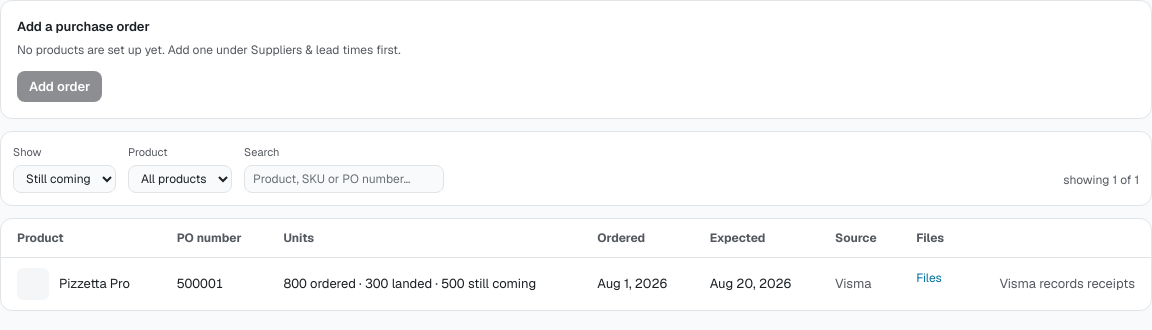
Test case: the PO number and the files from Visma › opens the files Visma holds for the order, each a link that downloads it
Expected: the column heading "Files" is shown, x1=900 y1=218 x2=966 y2=257
Click the button with aria-label "Files for PO 500001" at (929, 278), box x1=916 y1=268 x2=942 y2=286
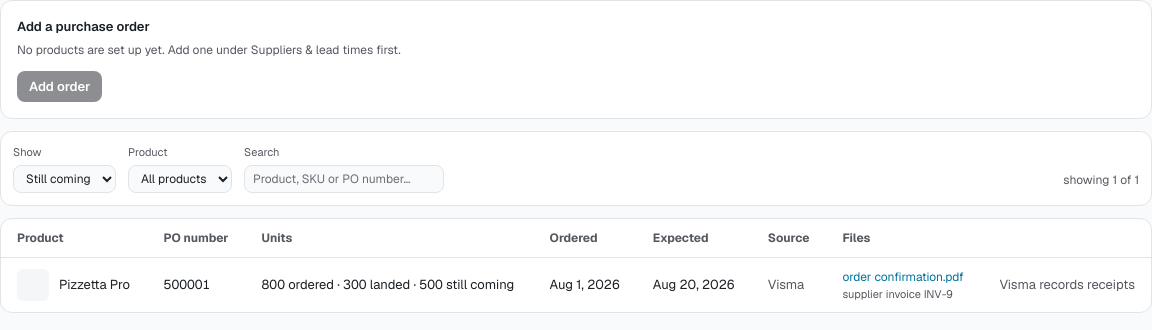
Expected: the text "supplier invoice INV-9" is shown, x1=842 y1=286 x2=965 y2=302
